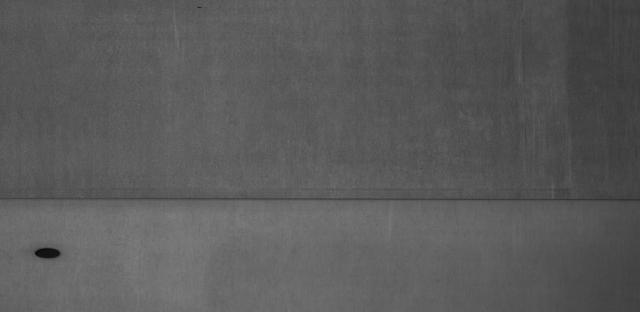punching_hole: (28, 240, 71, 264)
welding_line: (2, 190, 640, 208)
